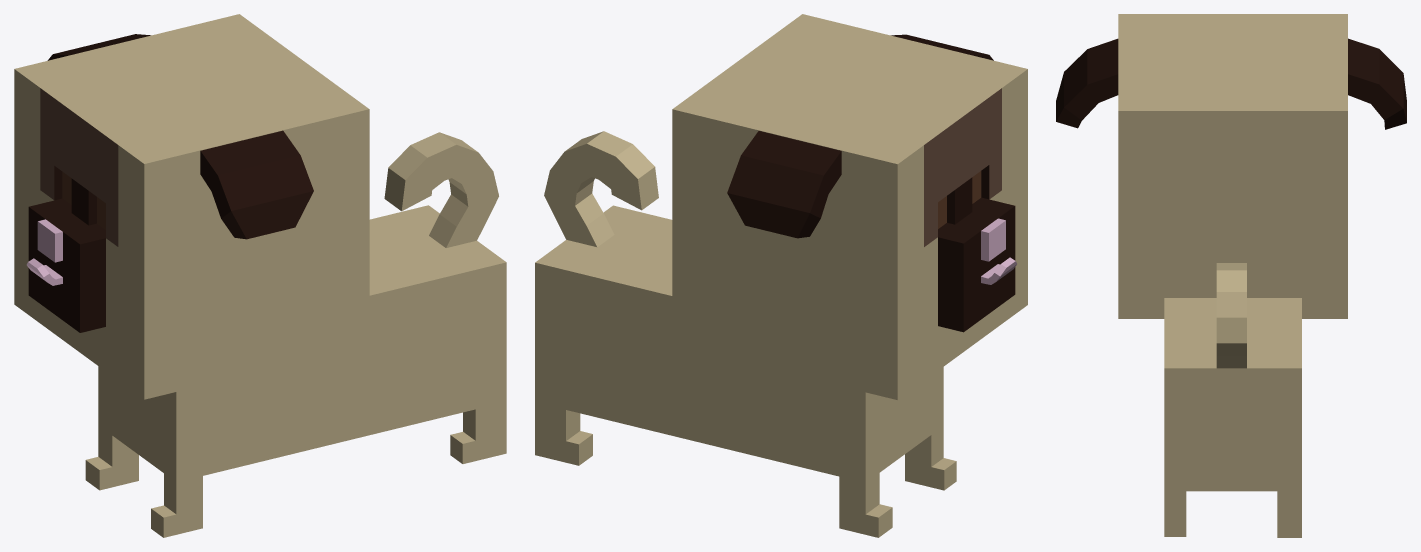
Rendered from Pug.fbx.
3 renders of one model, left to right at view 1: azimuth 30°, elevation 25°; view 2: azimuth 150°, elevation 25°; view 3: azimuth 270°, elevation 25°, orthographic. The views are drawn at different scales.
Visible parts, largest first — view 1: Cube.006, Cube, Cube.002, Cube.007, Cube.004, Cube.005, Cube.001; view 2: Cube.006, Cube, Cube.002, Cube.007, Cube.003, Cube.001, Cube.005; view 3: Cube.006, Cube, Cube.002, Cube.007, Cube.003, Cube.004.
Boxes of the visible parts, left/top/right/bottom form: Cube.006: left=14, top=14, right=369, bottom=399; Cube: left=98, top=205, right=506, bottom=481; Cube.002: left=47, top=34, right=313, bottom=239; Cube.007: left=384, top=132, right=498, bottom=247; Cube.004: left=450, top=400, right=506, bottom=463; Cube.005: left=151, top=473, right=202, bottom=537; Cube.001: left=85, top=425, right=138, bottom=490; Cube.006: left=672, top=14, right=1027, bottom=400; Cube: left=535, top=205, right=943, bottom=481; Cube.002: left=727, top=34, right=993, bottom=238; Cube.007: left=544, top=131, right=658, bottom=247; Cube.003: left=535, top=402, right=592, bottom=465; Cube.001: left=839, top=471, right=892, bottom=537; Cube.005: left=905, top=425, right=956, bottom=490; Cube.006: left=1118, top=14, right=1347, bottom=318; Cube: left=1164, top=298, right=1301, bottom=491; Cube.002: left=1056, top=38, right=1406, bottom=129; Cube.007: left=1216, top=263, right=1246, bottom=368; Cube.003: left=1277, top=491, right=1301, bottom=537; Cube.004: left=1164, top=490, right=1186, bottom=536.
Bounding box in the file's own units: 407 × 343 × 306.
